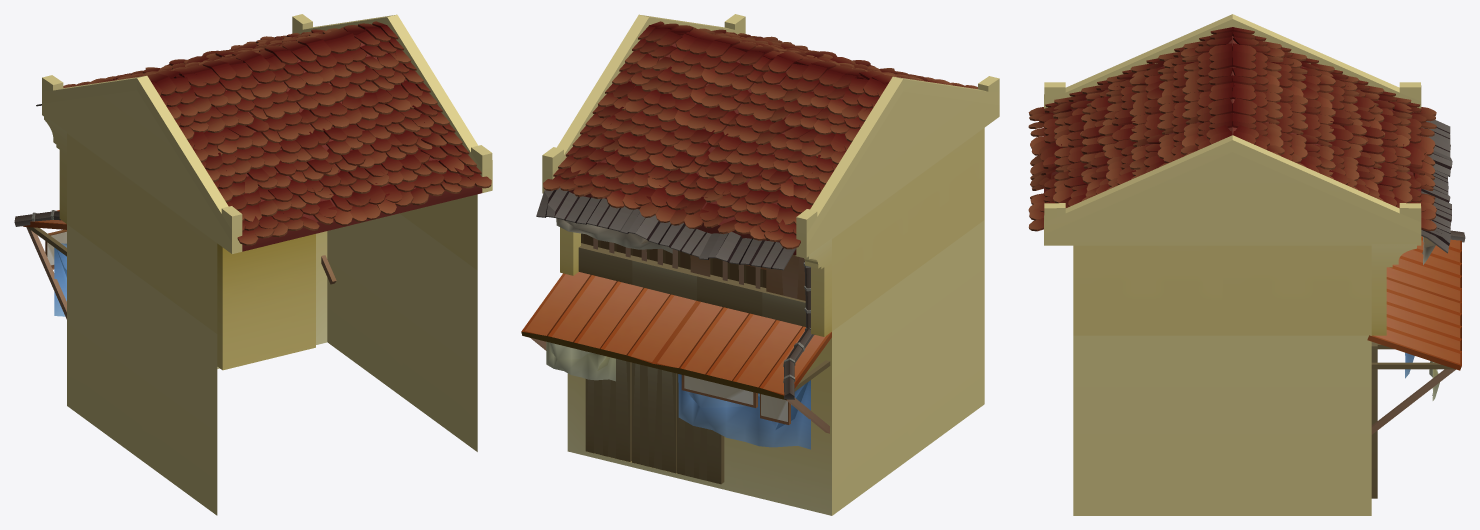
The model's file is SM_FacadeOldQuarter_Double_02.fbx.
3 views of the same model, side by side, from view 1: azimuth 30°, elevation 25°; view 2: azimuth 150°, elevation 25°; view 3: azimuth 270°, elevation 25° (orthographic). The views are drawn at different scales.
Visible parts, largest first — view 1: SM_FacadeOldQuarter_Double_02.001; view 2: SM_FacadeOldQuarter_Double_02.001; view 3: SM_FacadeOldQuarter_Double_02.001.
Boxes of the visible parts, x1,y1,x2,y2 form: SM_FacadeOldQuarter_Double_02.001: (14, 14, 492, 515); SM_FacadeOldQuarter_Double_02.001: (521, 14, 999, 515); SM_FacadeOldQuarter_Double_02.001: (1028, 14, 1465, 515).
Bounding box in the file's own units: 618 × 835 × 879.
